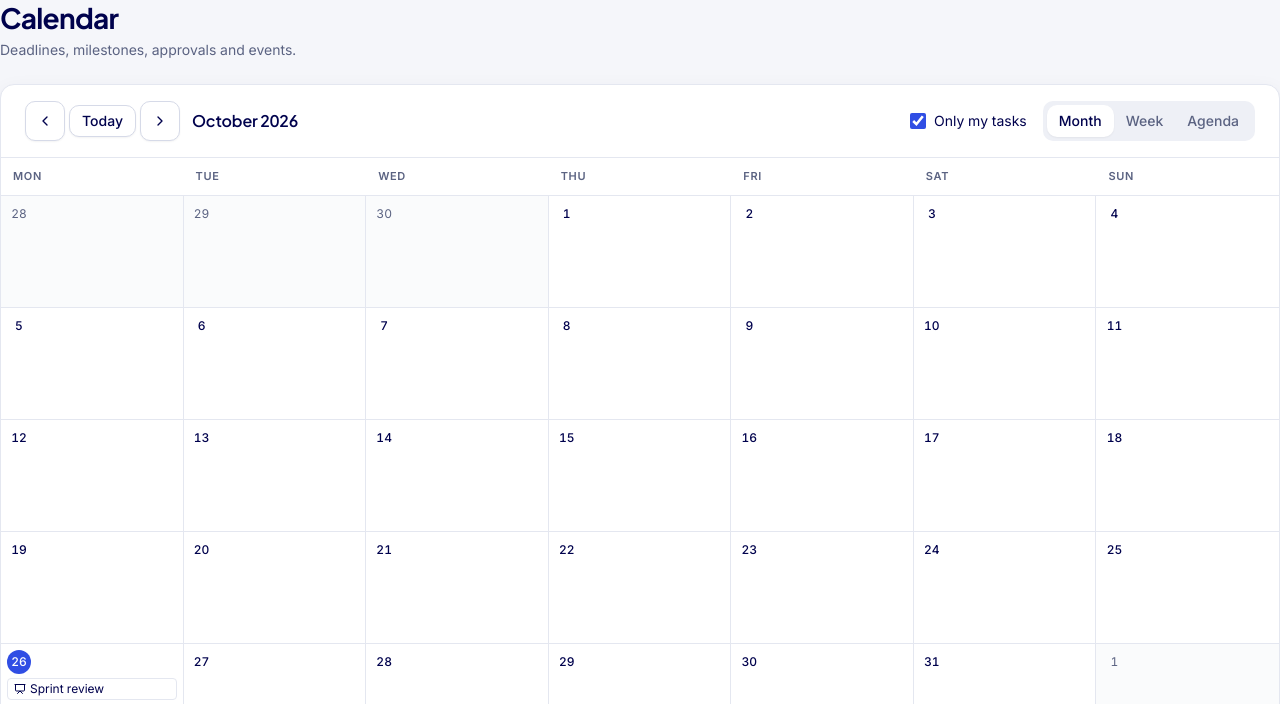
Scenario: CalendarPage › opens events in the event dialog
Click the button with aria-label "Meeting: Sprint review" at (92, 688), box [7, 678, 177, 700]
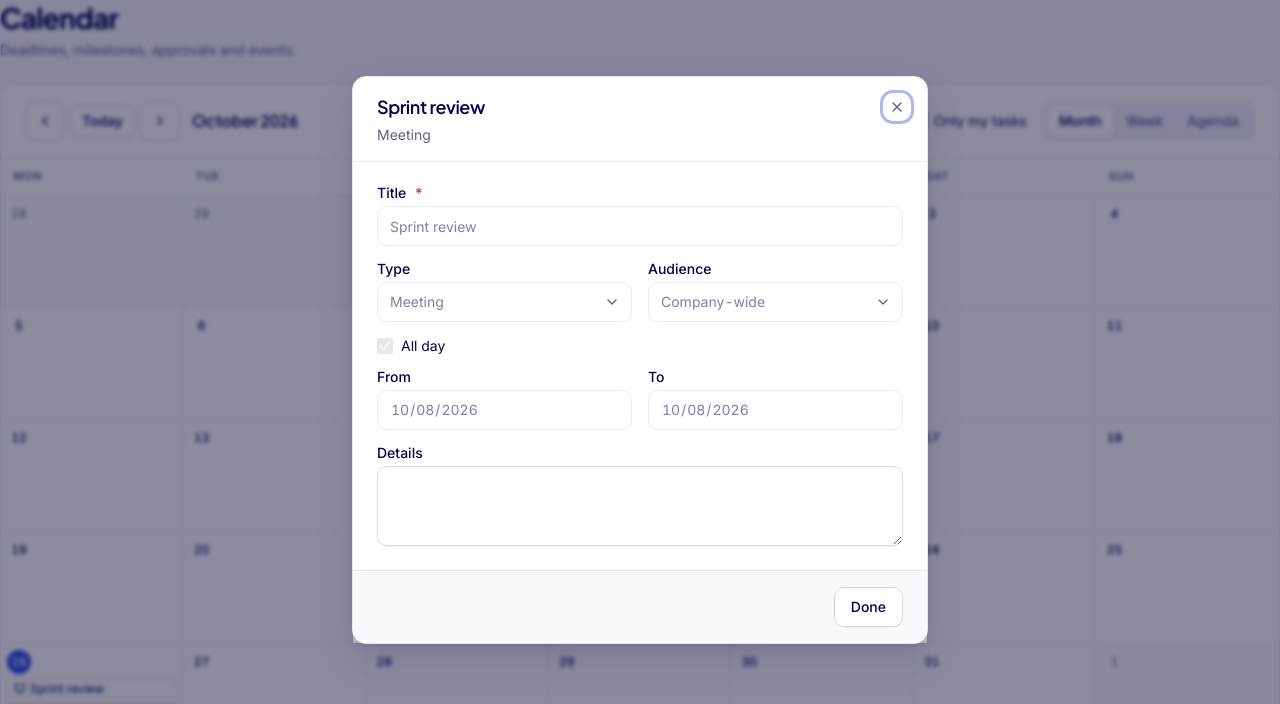
expect the heading "Sprint review" is shown: met, box [377, 95, 485, 118]
expect the field labelled "Title *" is disabled: met, box [377, 206, 903, 246]
expect the button "Done" is shown: met, box [834, 587, 903, 627]
